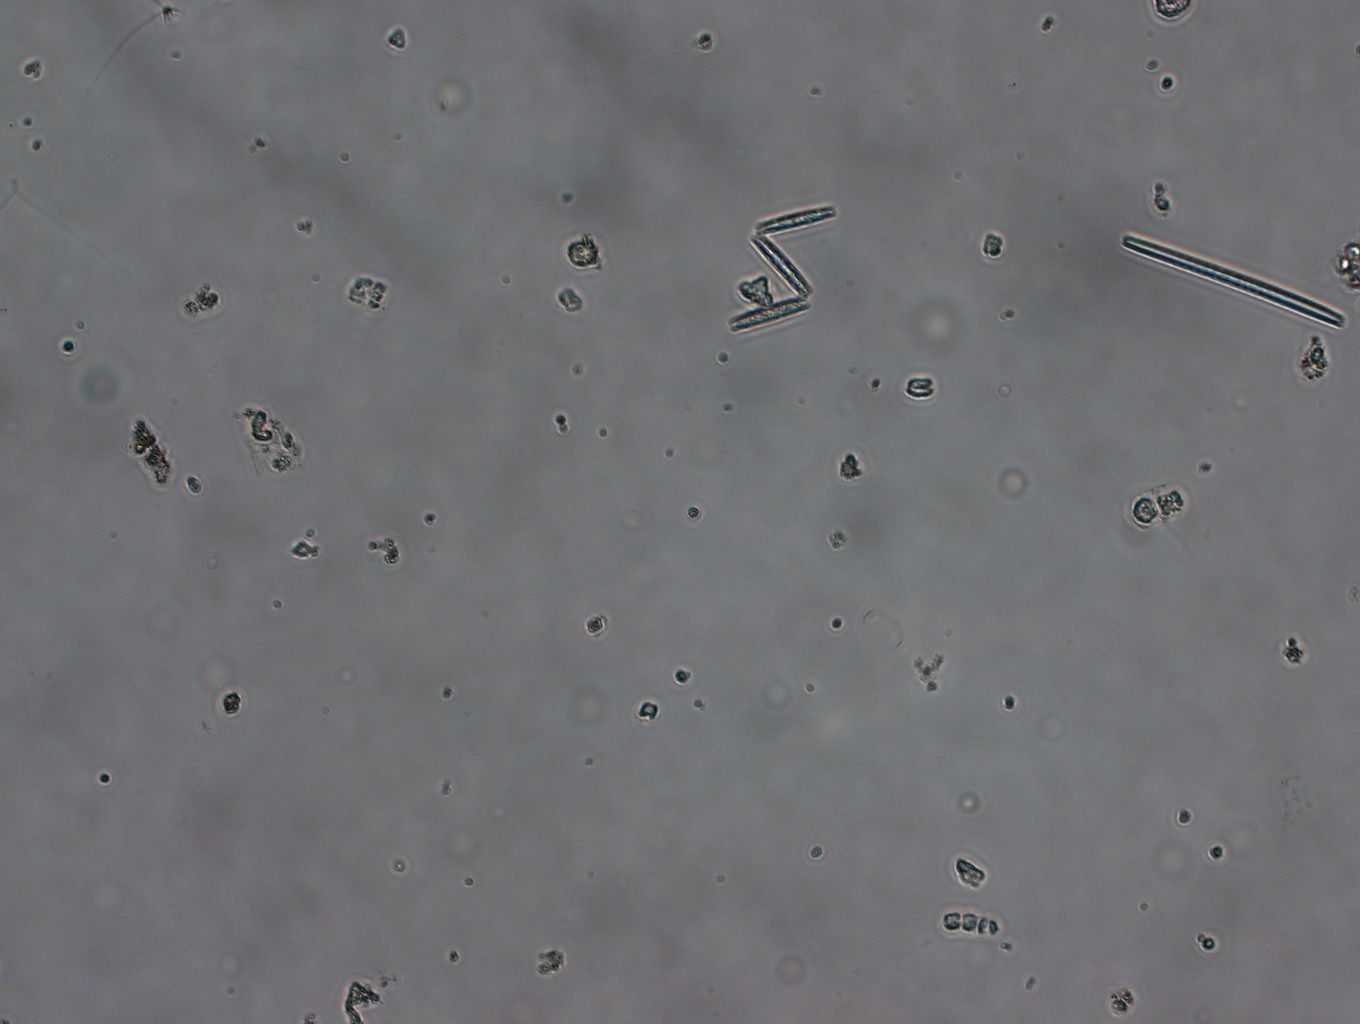thalassionema nitzschioides: (722, 198, 838, 336)
